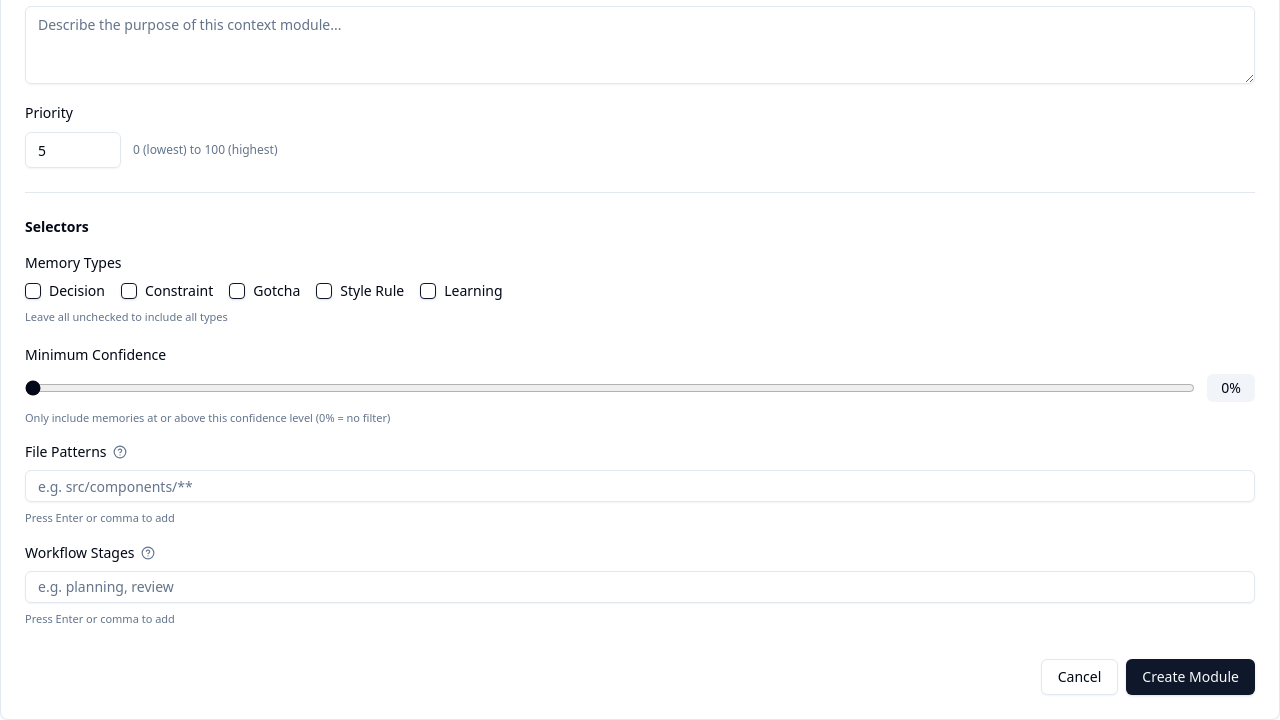
Test: ModuleEditor › Create Mode › shows validation error for empty name
The image size is (1280, 720).
(page scrolled)
Click the button "Create Module" at {"x": 1191, "y": 677}, box [1126,659,1255,695]
(page scrolled)
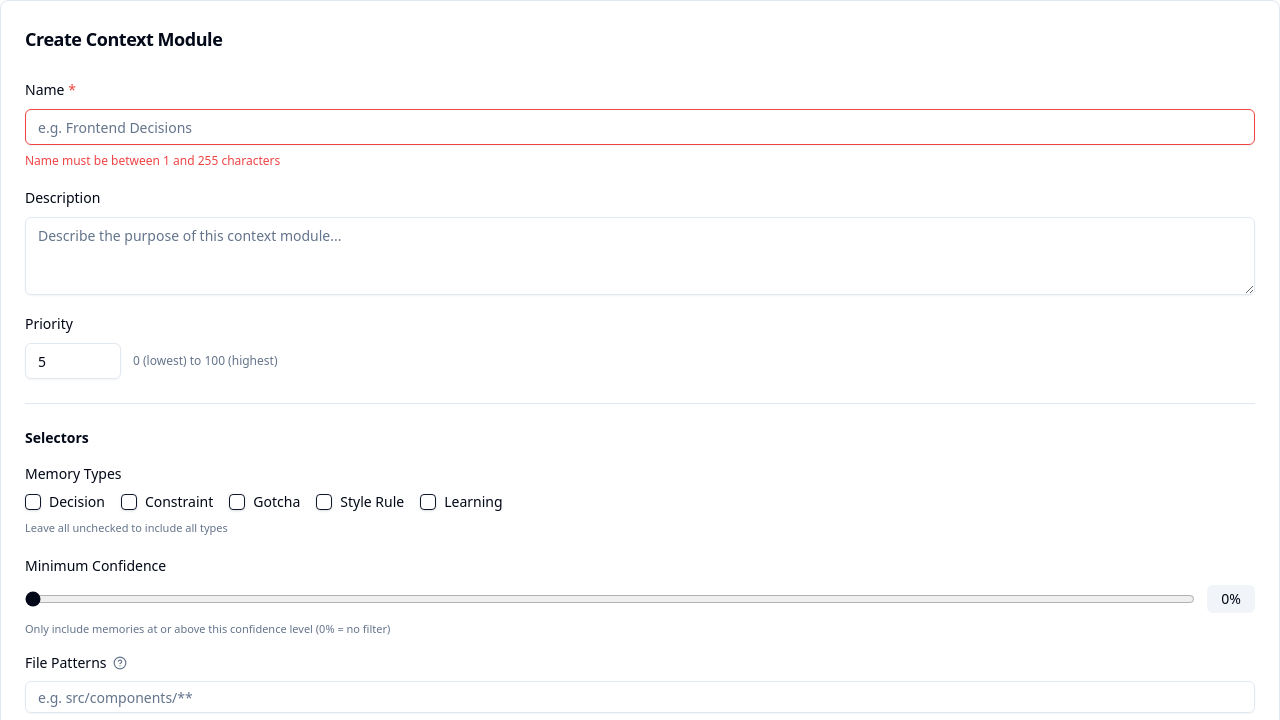
Expected: the message "Name must be between 1 and 255 characters" is shown, [25,152,280,169]
